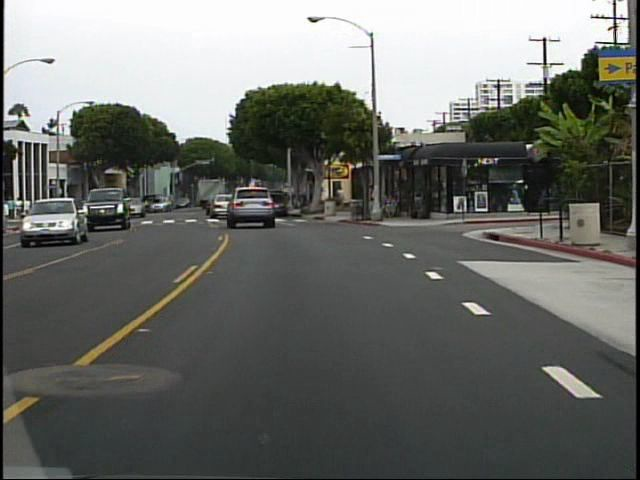person: (362, 186, 378, 219)
